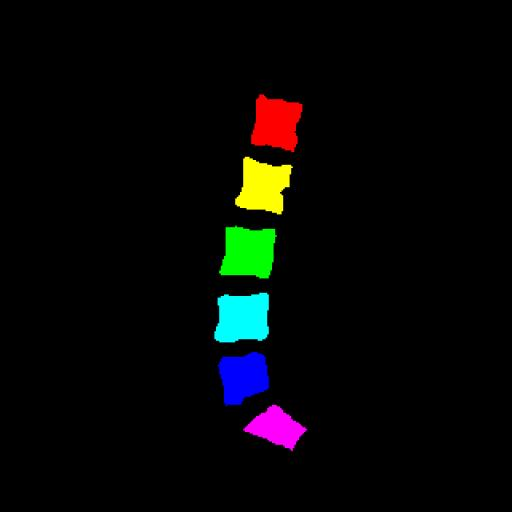L1: (251, 94, 302, 152)
L2: (235, 157, 292, 214)
L3: (219, 227, 276, 278)
L4: (214, 293, 269, 342)
L5: (218, 352, 269, 406)
S1: (243, 405, 307, 451)
